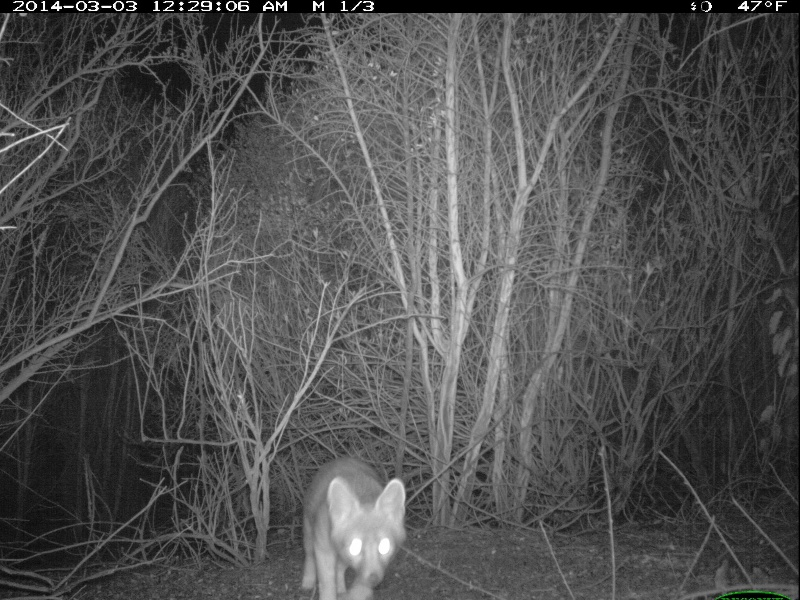fox: (296, 455, 410, 600)
